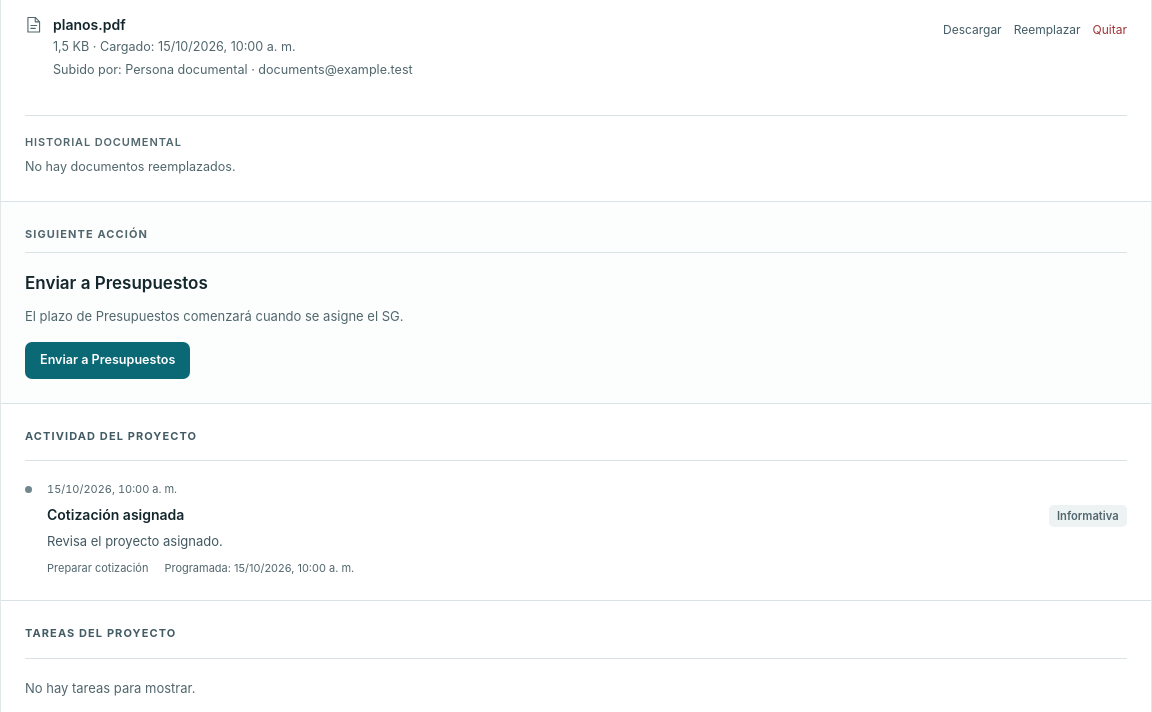
Test: Project detail and send to Budgets › refreshes after a safe send conflict and preserves the backend code
This screenshot has width=1152, height=712.
(page scrolled)
Click the button "Enviar a Presupuestos" at (108, 360), box top-left (25, 342), bottom-right (190, 379)
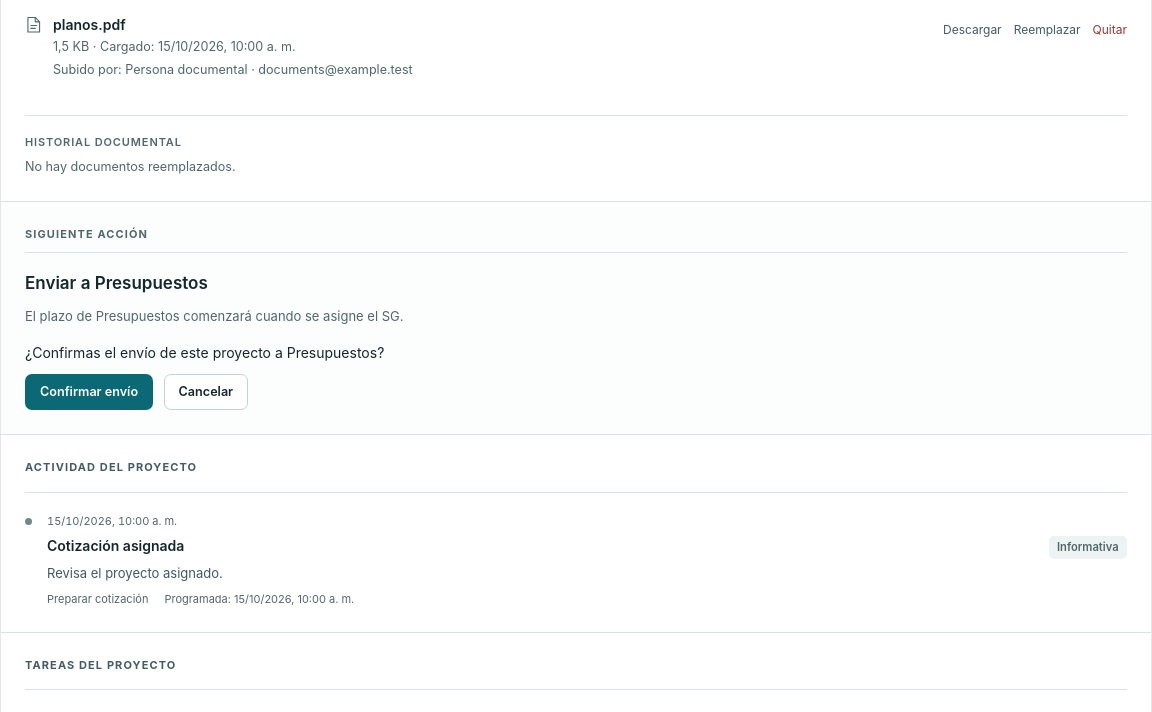
Click the button "Confirmar envío" at (89, 392), box top-left (25, 374), bottom-right (153, 410)
(page scrolled)
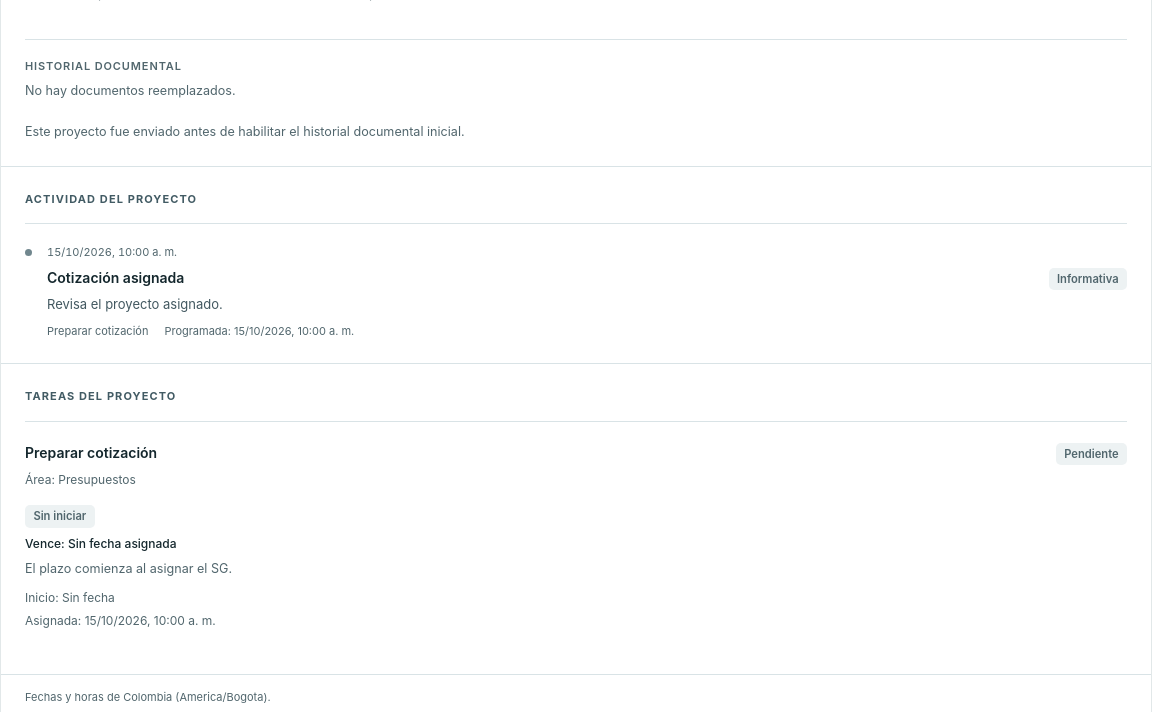
Check: the heading "Preparar cotización" is shown, box top-left (25, 442), bottom-right (157, 463)
Check: the heading "Enviar a Presupuestos" is gone
